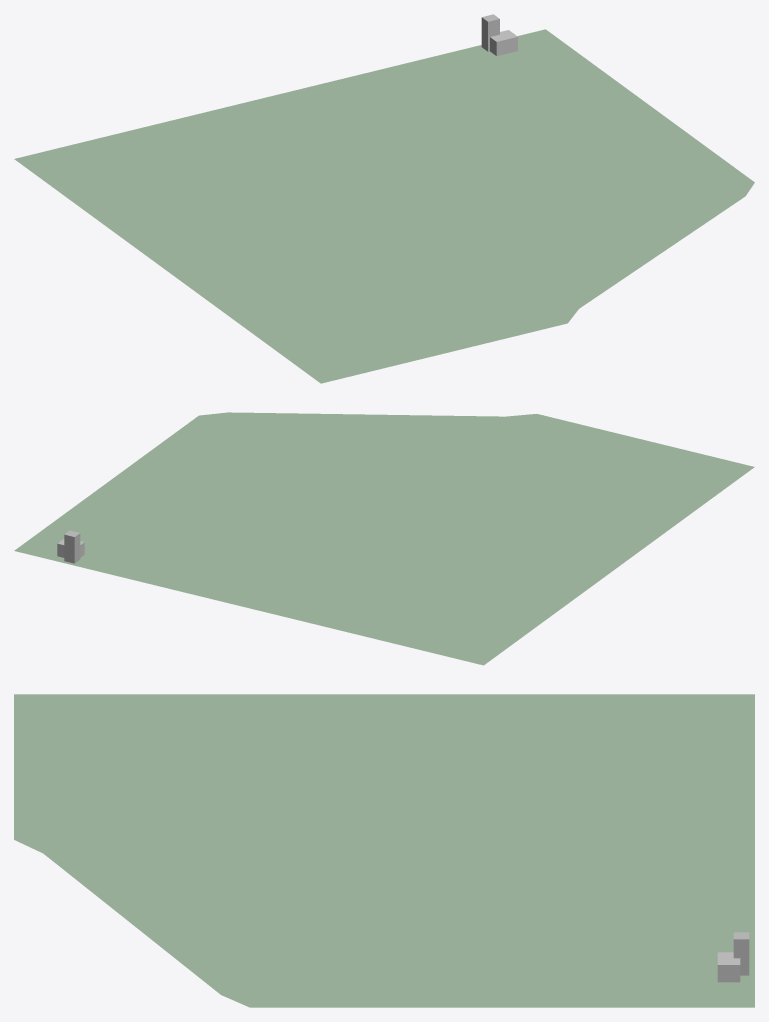
Rendered from 105_109_mid.glb.
3 views of the same model, one above another, from view 1: azimuth 30°, elevation 25°; view 2: azimuth 150°, elevation 25°; view 3: azimuth 270°, elevation 25° (orthographic). The views are drawn at different scales.
Size of the model in its own units: 500 by 27.7 by 500.
